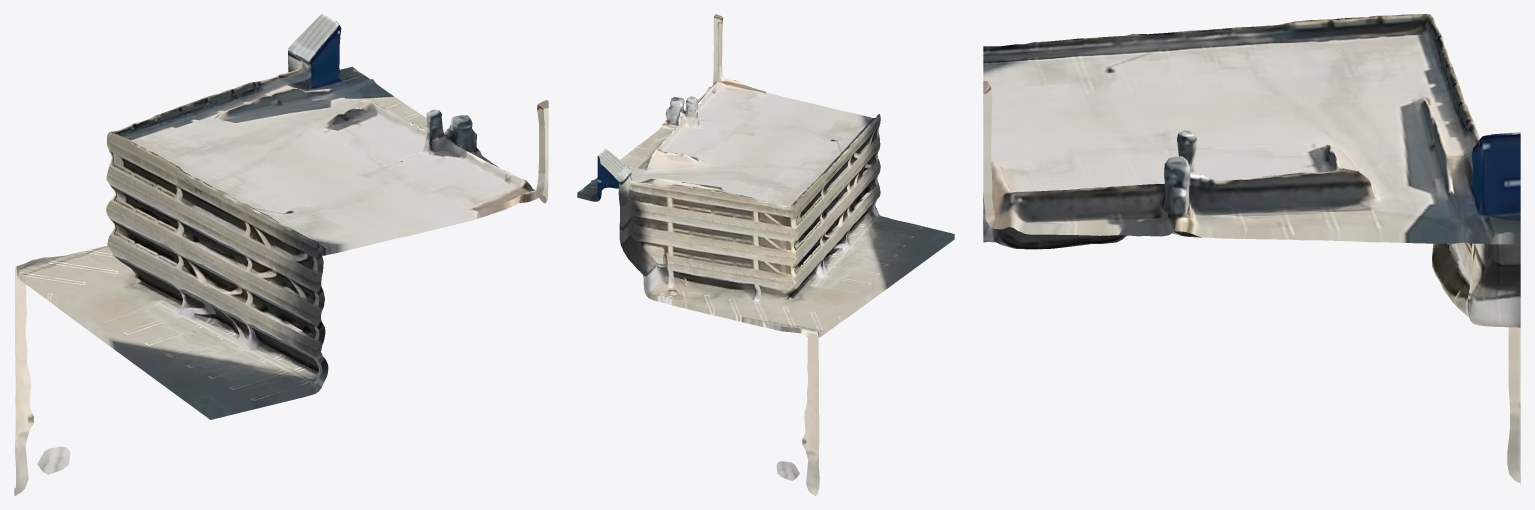
Rendered from z20-167752-405241-h0-yup-uvflip-v3-world.glb.
3 renders of one model, left to right at view 1: azimuth 30°, elevation 25°; view 2: azimuth 150°, elevation 25°; view 3: azimuth 270°, elevation 25°, orthographic. The views are drawn at different scales.
Size of the model in its own units: 30.16 by 38.88 by 30.32.
Materials: 1 (1 with a texture image).
